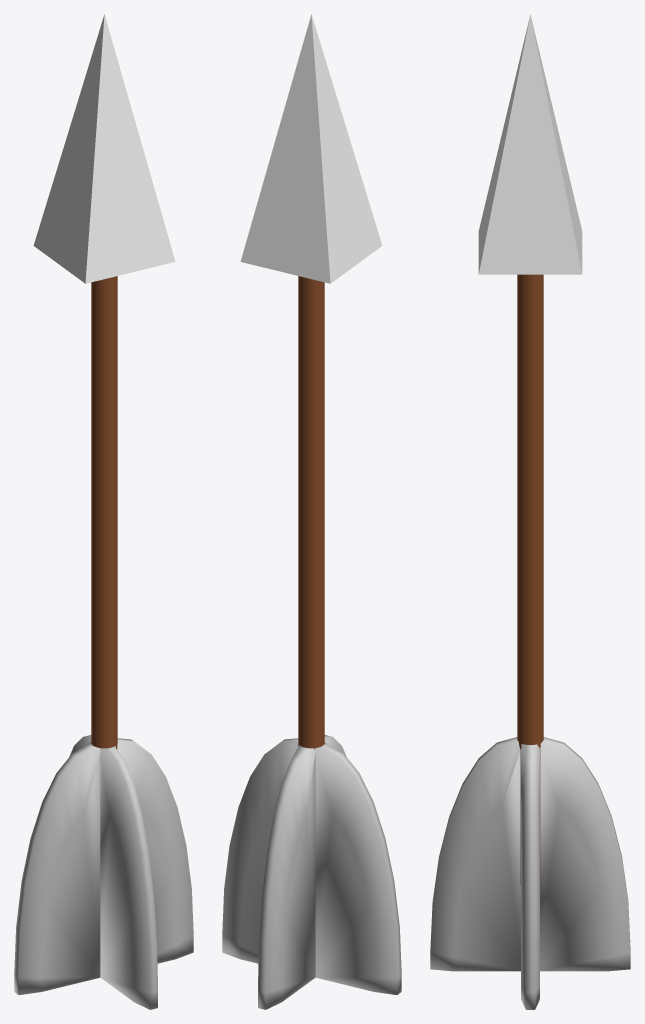
Rendered from arrow.fbx.
3 views of the same model, side by side, from view 1: azimuth 30°, elevation 25°; view 2: azimuth 150°, elevation 25°; view 3: azimuth 270°, elevation 25° (orthographic).
Visible parts, largest first — view 1: arrow; view 2: arrow; view 3: arrow.
Boxes of the visible parts, left/top/right/bottom form: arrow: left=14, top=14, right=193, bottom=1009; arrow: left=222, top=14, right=401, bottom=1009; arrow: left=430, top=14, right=630, bottom=1009.
Bounding box in the file's own units: 1.16 × 6.07 × 1.15.
